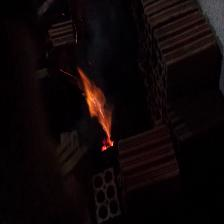fire: (78, 69, 114, 151)
